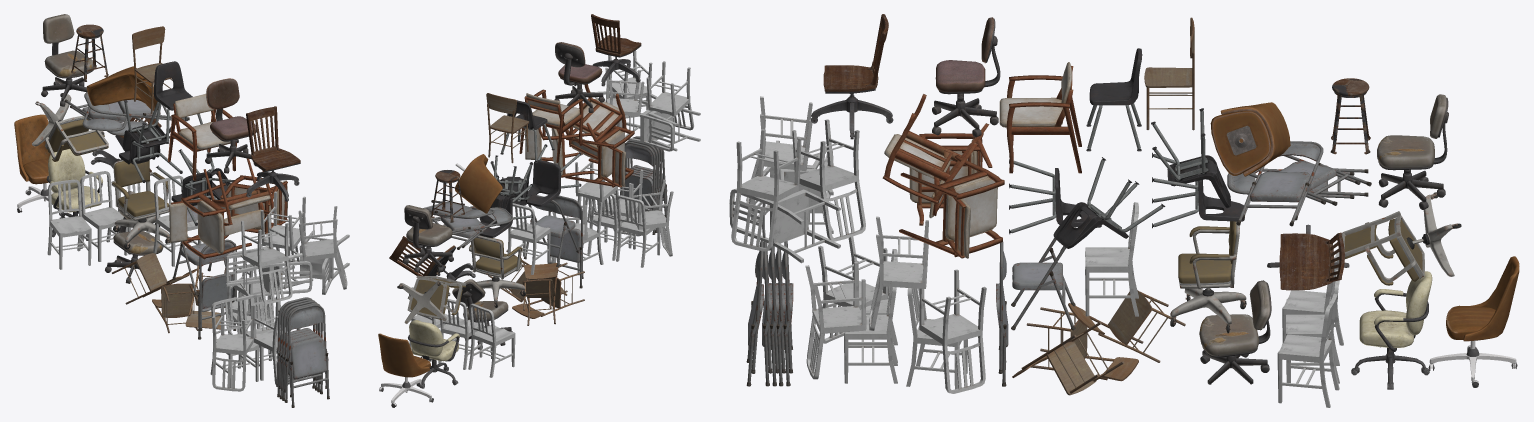
The model's file is poppy_playtime_4_chairs_pack_1.glb.
3 views of the same model, side by side, from view 1: azimuth 30°, elevation 25°; view 2: azimuth 150°, elevation 25°; view 3: azimuth 270°, elevation 25° (orthographic). The views are drawn at different scales.
Visible parts, largest first — view 1: SM_Pile_ChairPrison_H.mo, SM_Pile_ChairOffice_C.mo, SM_Pile_ChairPrison_G.mo, SM_Pile_ChairFolding_C.mo, SM_Pile_ChairPrison_I.mo, SM_Pile_ChairWooden_E.mo, SM_ChairOffice_D.mo, SM_ChairOffice_B.mo, SM_ChairOffice_G.mo, SM_ChairOffice_H.mo, SM_ChairOffice_D_02.mo, SM_ChairOffice_C.mo (+14 smaller); view 2: SM_Pile_ChairPrison_G.mo, SM_Pile_ChairOffice_C.mo, SM_Pile_ChairPrison_H.mo, SM_Pile_ChairPrison_I.mo, SM_Pile_ChairWooden_E.mo, SM_ChairOffice_D.mo, SM_Pile_ChairFolding_C.mo, SM_ChairOffice_C.mo, SM_ChairOffice_D_02.mo, SM_ChairOffice_G.mo, SM_Pile_ChairPrison_D.mo, SM_Pile_ChairFolding_A.mo (+14 smaller); view 3: SM_Pile_ChairPrison_G.mo, SM_Pile_ChairPrison_H.mo, SM_Pile_ChairOffice_C.mo, SM_Pile_ChairWooden_E.mo, SM_Pile_ChairPrison_I.mo, SM_Pile_ChairFolding_A.mo, SM_Pile_ChairFolding_C.mo, SM_ChairOffice_C_02.mo, SM_ChairOffice_D_02.mo, SM_ChairOffice_D.mo, SM_ChairOffice_G_02.mo, SM_ChairOffice_F.mo (+14 smaller).
Part boxes in pixels (x1,y1,x2,y2): SM_Pile_ChairPrison_H.mo: (225,191,349,303); SM_Pile_ChairOffice_C.mo: (169,158,287,259); SM_Pile_ChairPrison_G.mo: (210,244,300,391); SM_Pile_ChairFolding_C.mo: (276,297,329,407); SM_Pile_ChairPrison_I.mo: (47,171,160,269); SM_Pile_ChairWooden_E.mo: (112,253,225,333); SM_ChairOffice_D.mo: (111,160,169,249); SM_ChairOffice_B.mo: (246,106,300,201); SM_ChairOffice_G.mo: (41,14,93,106); SM_ChairOffice_H.mo: (205,78,256,173); SM_ChairOffice_D_02.mo: (32,93,108,161); SM_ChairOffice_C.mo: (14,114,63,216); SM_Pile_ChairPrison_G.mo: (550,158,673,275); SM_Pile_ChairOffice_C.mo: (524,84,634,187); SM_Pile_ChairPrison_H.mo: (583,50,700,151); SM_Pile_ChairPrison_I.mo: (409,287,515,377); SM_Pile_ChairWooden_E.mo: (488,250,584,325); SM_ChairOffice_D.mo: (469,235,525,307); SM_Pile_ChairFolding_C.mo: (620,136,667,234); SM_ChairOffice_C.mo: (378,333,433,407); SM_ChairOffice_D_02.mo: (397,275,466,323); SM_ChairOffice_G.mo: (403,205,453,272); SM_Pile_ChairPrison_D.mo: (490,144,581,206); SM_Pile_ChairFolding_A.mo: (423,200,513,249); SM_Pile_ChairPrison_G.mo: (805,216,986,393); SM_Pile_ChairPrison_H.mo: (729,96,865,263); SM_Pile_ChairOffice_C.mo: (882,94,1004,258); SM_Pile_ChairWooden_E.mo: (1012,290,1185,395); SM_Pile_ChairPrison_I.mo: (1277,252,1343,407); SM_Pile_ChairFolding_A.mo: (1227,141,1371,226); SM_Pile_ChairFolding_C.mo: (746,240,793,386); SM_ChairOffice_C_02.mo: (1210,102,1290,176); SM_ChairOffice_D_02.mo: (1341,192,1461,285); SM_ChairOffice_D.mo: (1170,221,1246,333); SM_ChairOffice_G_02.mo: (1199,280,1271,384); SM_ChairOffice_F.mo: (999,62,1081,173).
Size of the model in its own units: 1.96 by 3.65 by 7.44.
10 materials, 10 textured.
